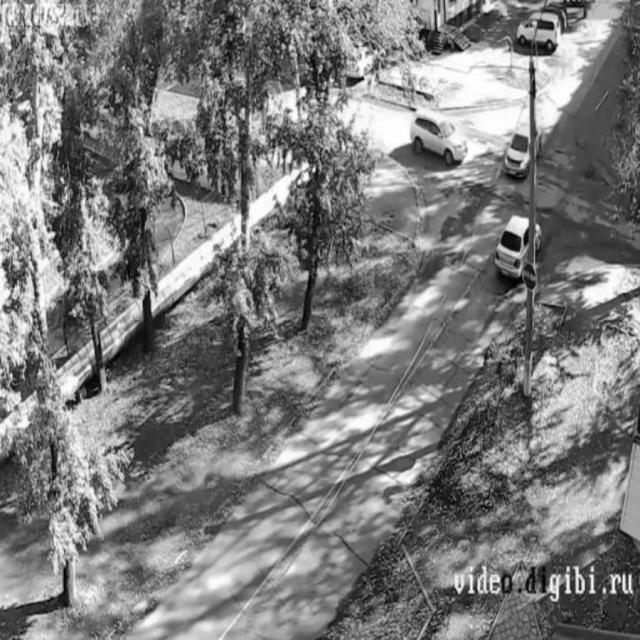vehicle: (411, 106, 468, 167), (495, 213, 542, 279), (516, 9, 562, 51), (503, 123, 529, 174)
